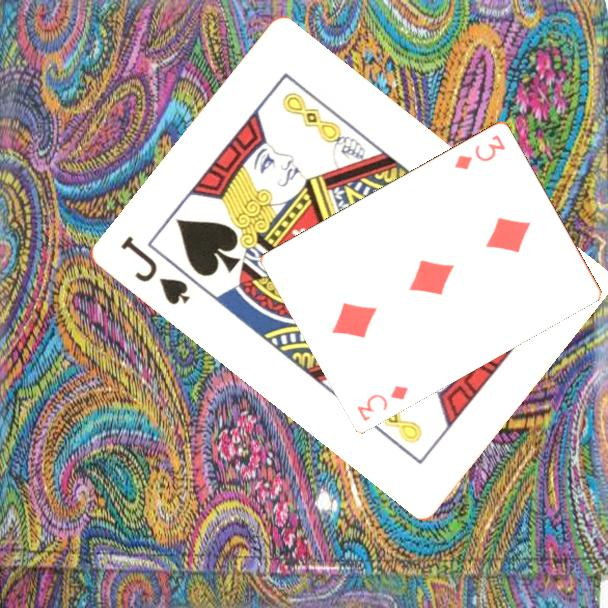d03: (353, 381, 411, 424), (451, 131, 508, 172)
s11: (116, 232, 193, 308)
